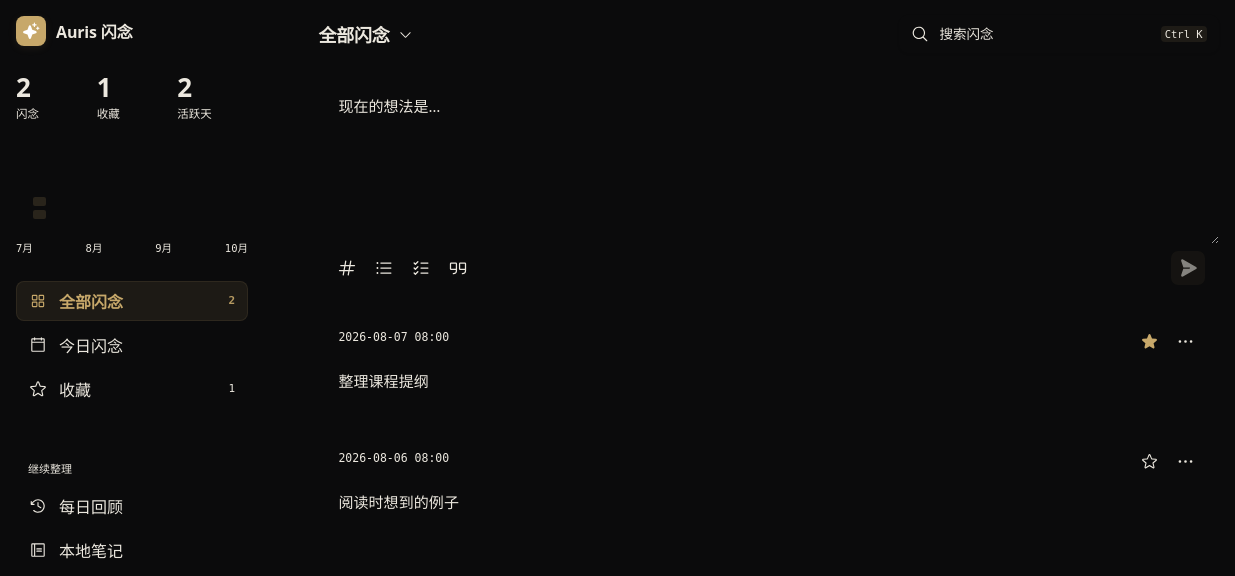
Test: FlashPageClient › shows only favorite flashes from the sidebar filter
Expected: the text "整理课程提纲" is shown, [338, 371, 429, 391]
Step 1. Click the button with aria-label "收藏闪念" → (132, 389), box [16, 369, 248, 409]
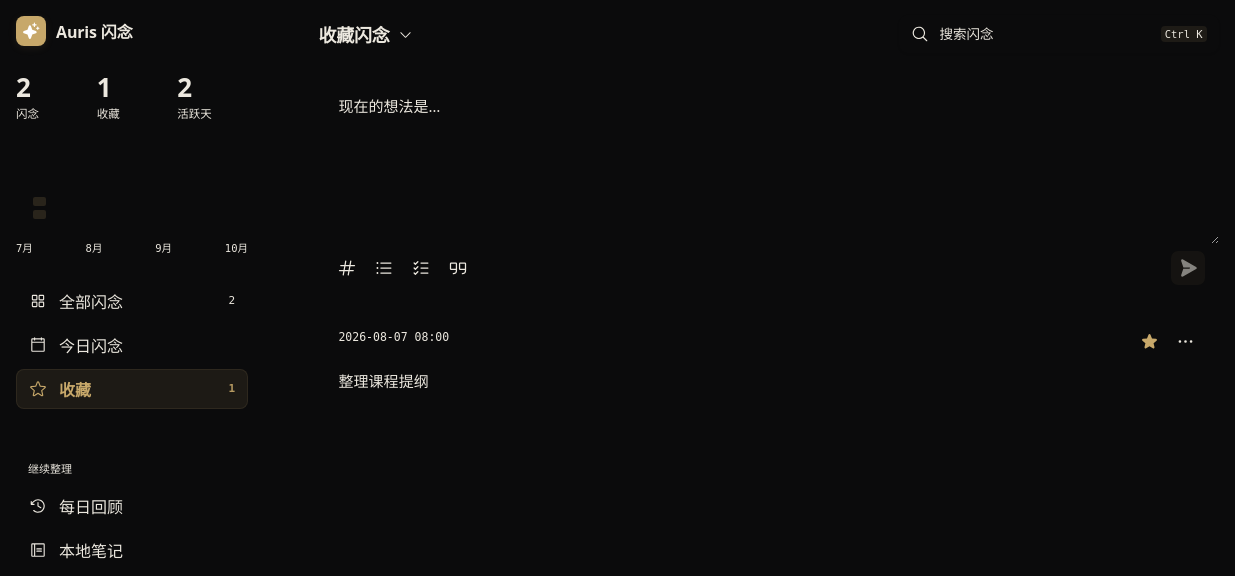
Expected: the text "整理课程提纲" is shown, [338, 371, 429, 391]
Expected: the text "阅读时想到的例子" is gone
